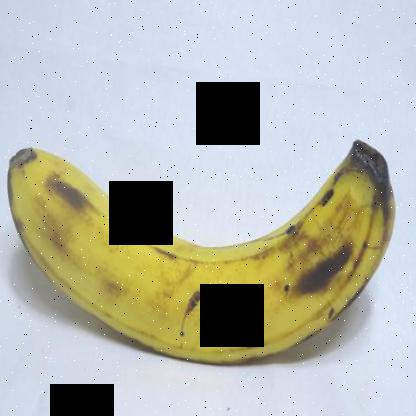ripe: (0, 111, 404, 388)
